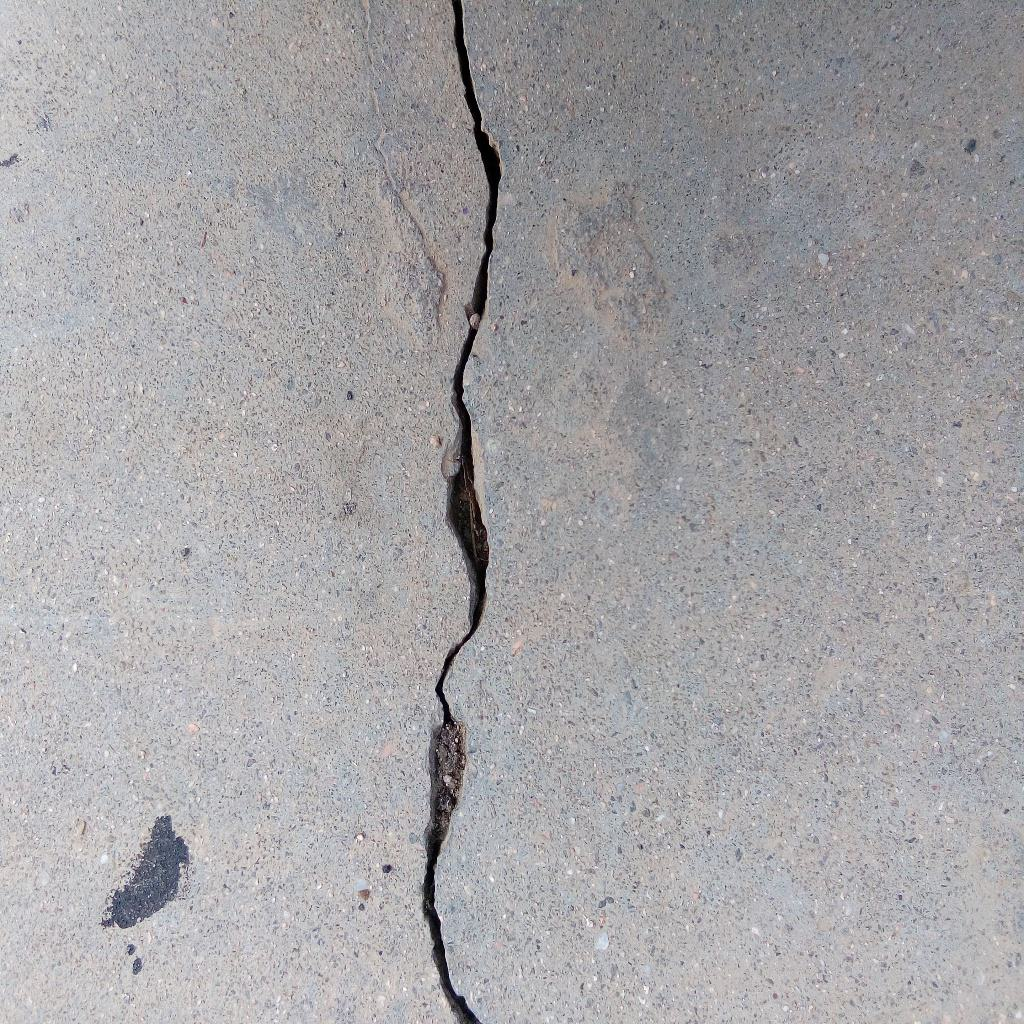Crack: (418, 1, 506, 1024)
